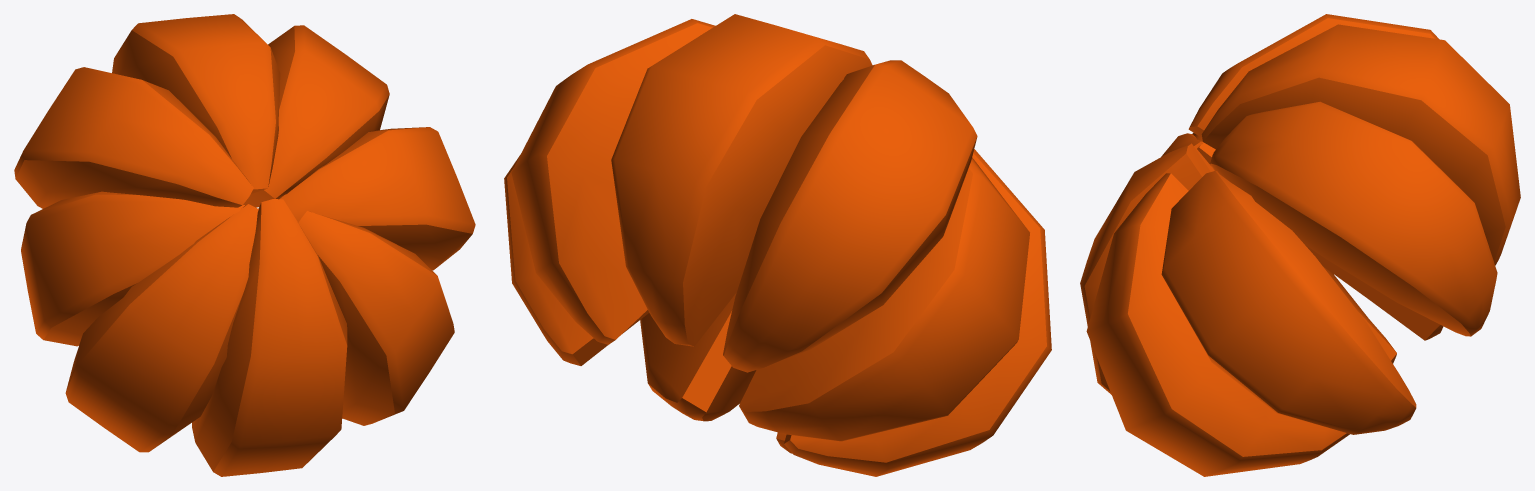
The model's file is p_mesh_hvs_lemonium_part02.fbx.
The picture shows the model from 3 angles, left to right: view 1: azimuth 30°, elevation 25°; view 2: azimuth 150°, elevation 25°; view 3: azimuth 270°, elevation 25°; orthographic projection. The views are drawn at different scales.
Visible parts, largest first — view 1: p_harvests_lemonium_part02; view 2: p_harvests_lemonium_part02; view 3: p_harvests_lemonium_part02.
Boxes of the visible parts, <box> form: p_harvests_lemonium_part02: <box>14,14,475,476</box>; p_harvests_lemonium_part02: <box>504,14,1051,476</box>; p_harvests_lemonium_part02: <box>1080,14,1520,476</box>.
Bounding box in the file's own units: 5.23 × 4.61 × 4.57.
